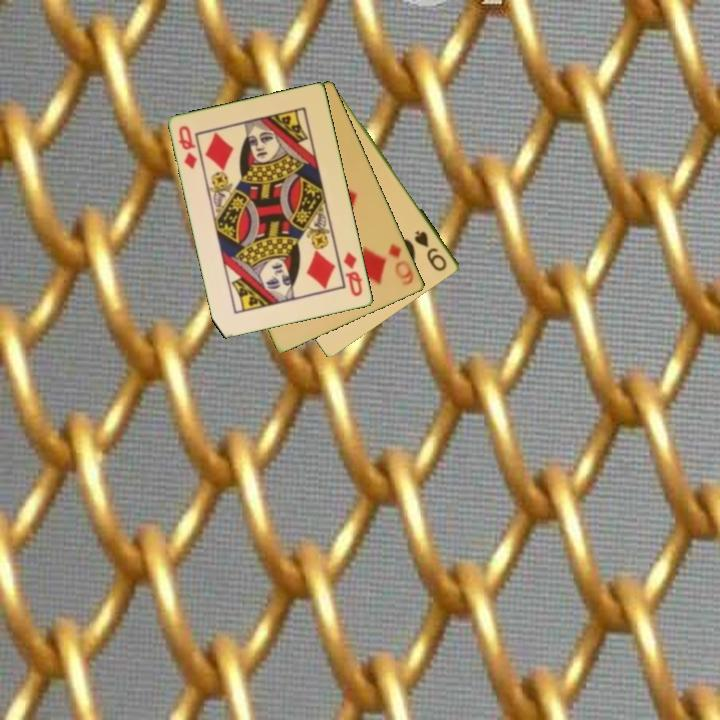6d: (385, 240, 417, 289)
9s: (411, 227, 450, 274)
Qd: (340, 248, 366, 299), (176, 122, 201, 172)
